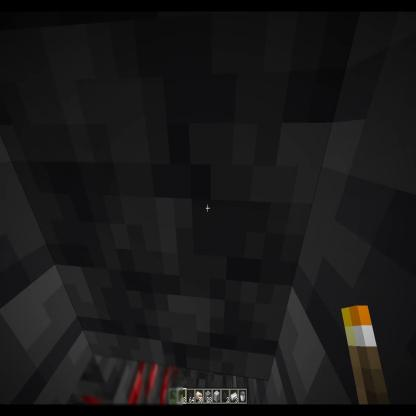redstone ore: (74, 350, 183, 407)
